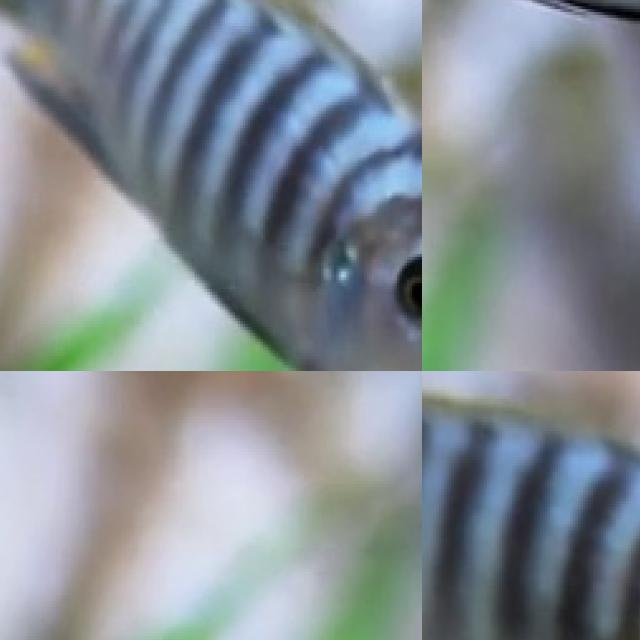fish: (0, 0, 422, 371), (422, 371, 640, 640)
